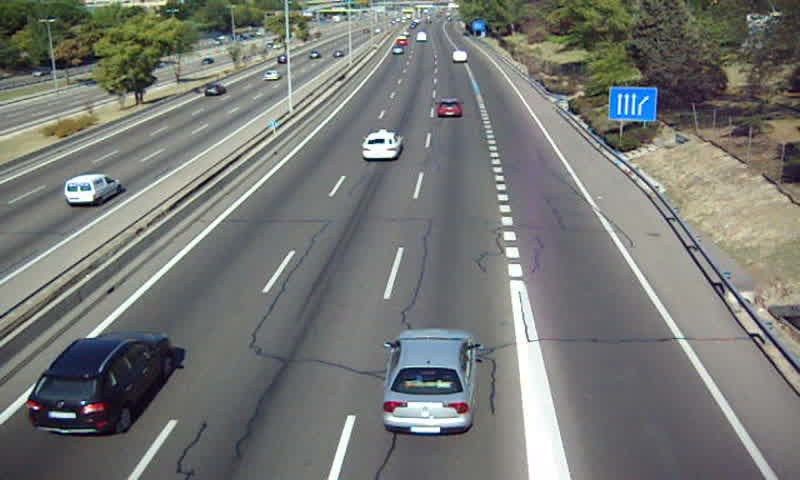car: (27, 330, 172, 434), (383, 330, 476, 435), (362, 130, 403, 160), (436, 99, 462, 119)
